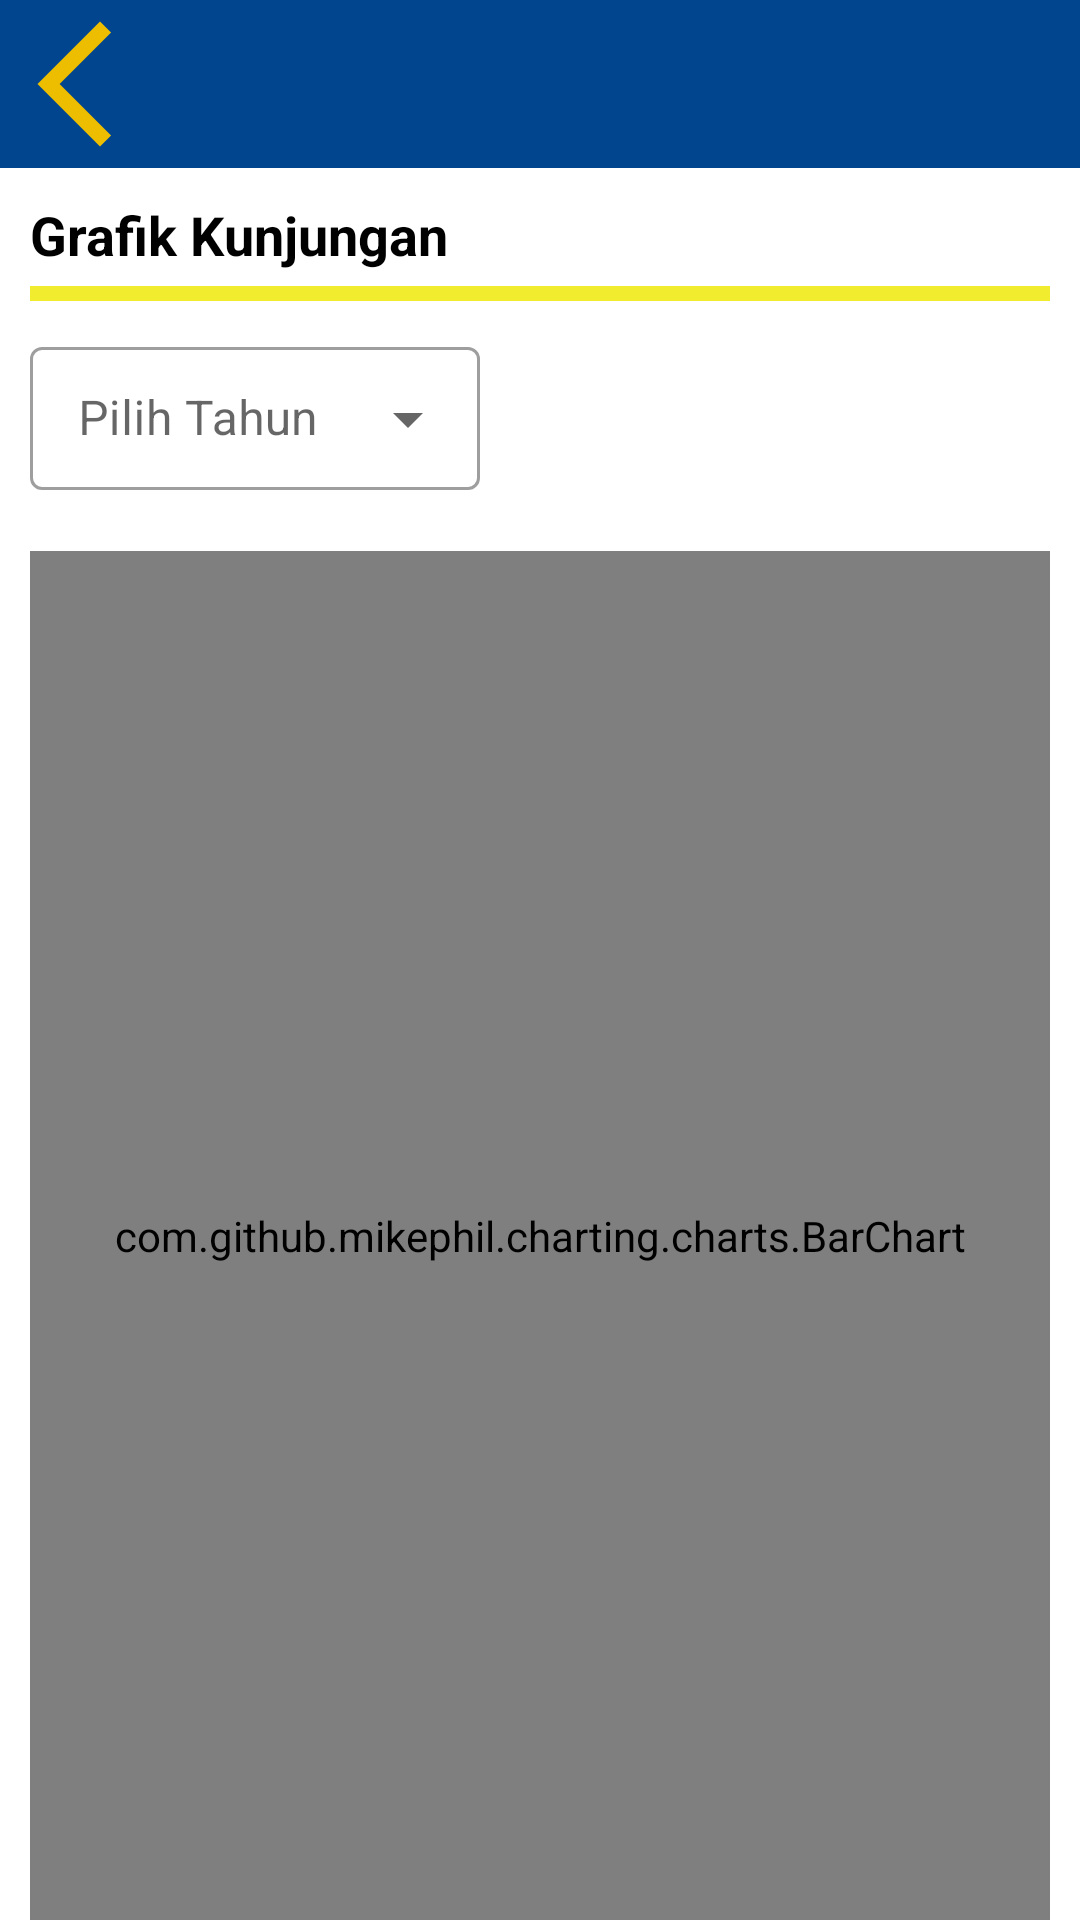

Screen size 1080x1920. Icon name, then its box in pixels as (x1, y1, x2, y2):
arrow back: (37, 21, 111, 147)
